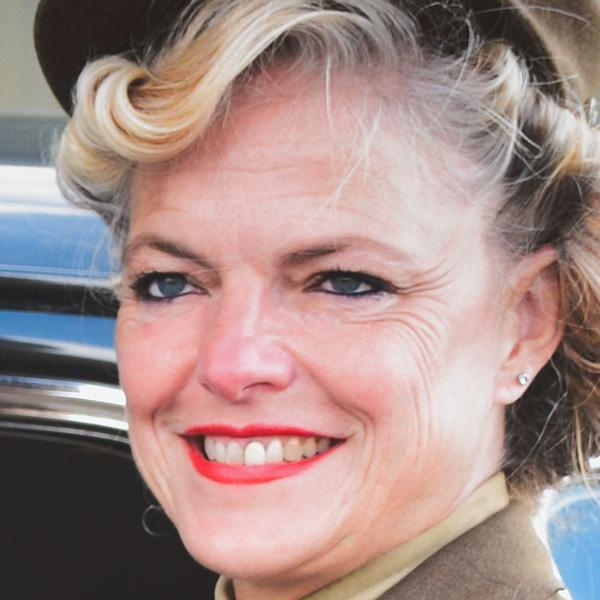Eyes: (289, 258, 400, 312), (124, 259, 218, 314)
